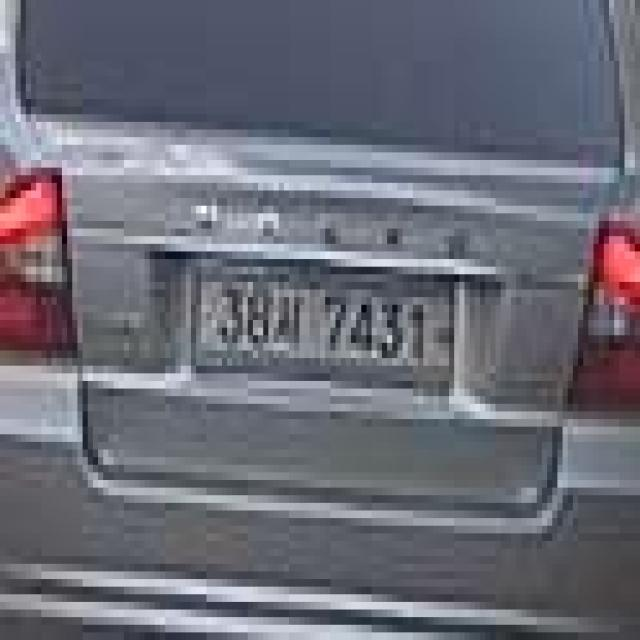1: (408, 297, 428, 366)
3: (212, 282, 248, 350), (377, 297, 408, 366)
4: (346, 297, 377, 358)
7: (320, 290, 346, 350)
8: (242, 274, 274, 350)
license_plate: (191, 259, 464, 389)
seo: (274, 282, 304, 350)
